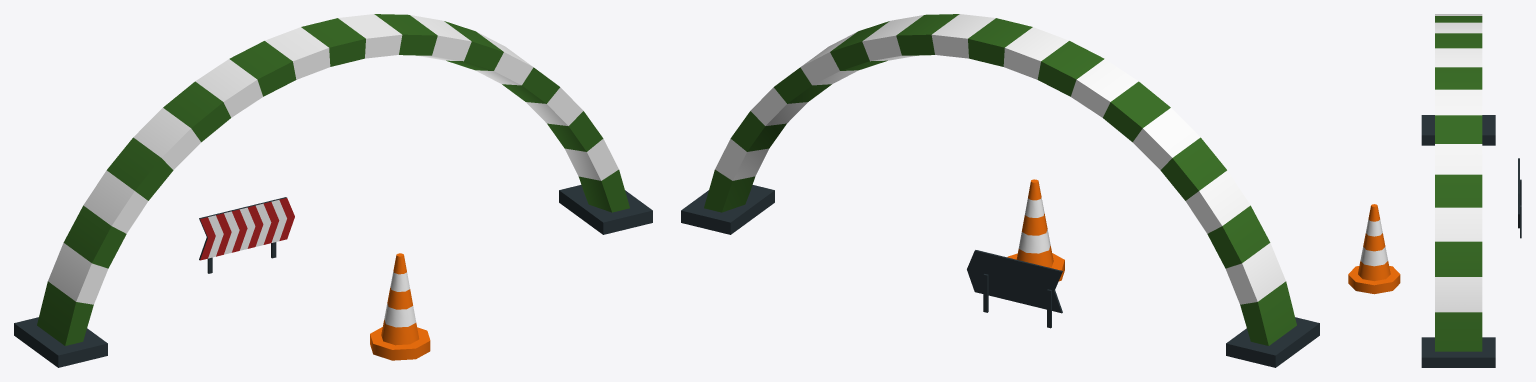
The model's file is track props.fbx.
The picture shows the model from 3 angles, left to right: view 1: azimuth 30°, elevation 25°; view 2: azimuth 150°, elevation 25°; view 3: azimuth 270°, elevation 25°; orthographic projection. The views are drawn at different scales.
Visible parts, largest first — view 1: bridge_01, arrow_01, cone_01; view 2: bridge_01, arrow_01, cone_01; view 3: bridge_01, cone_01, arrow_01.
Part boxes in pixels (<box>): bridge_01: <box>14,14,652,367</box>; arrow_01: <box>199,197,294,273</box>; cone_01: <box>370,253,430,360</box>; bridge_01: <box>681,14,1319,367</box>; arrow_01: <box>967,250,1062,328</box>; cone_01: <box>1007,179,1064,281</box>; bridge_01: <box>1421,14,1495,367</box>; cone_01: <box>1348,204,1400,294</box>; arrow_01: <box>1518,158,1521,238</box>.
Size of the model in its own units: 15 by 6.8 by 4.54.
